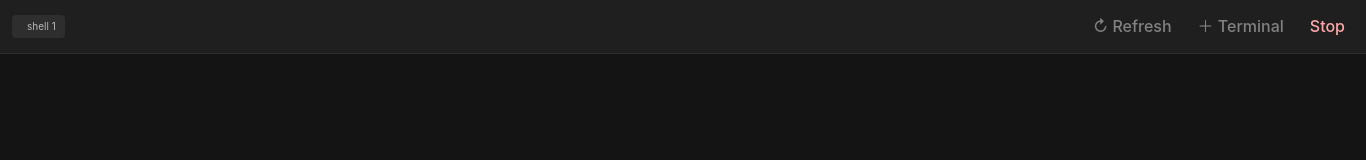
Test case: TerminalPane › does not overlap a stale terminal list with a mutation or clear its ambiguous result
expect the tab "shell 1" is shown: met, box [12, 15, 65, 38]
Click the button "↻ Refresh" at (1132, 26), box [1084, 8, 1181, 45]
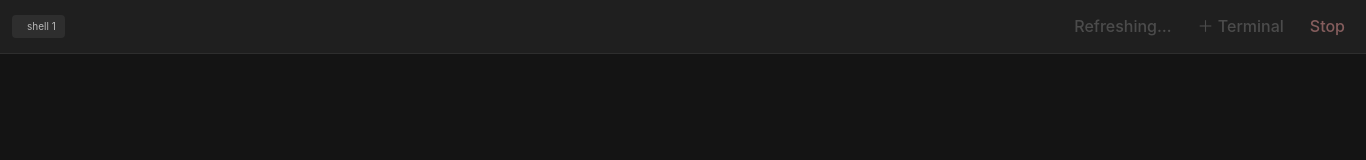
expect the button "＋ Terminal" is disabled: met
Click the button "＋ Terminal" at (1241, 26), box [1189, 8, 1293, 45]
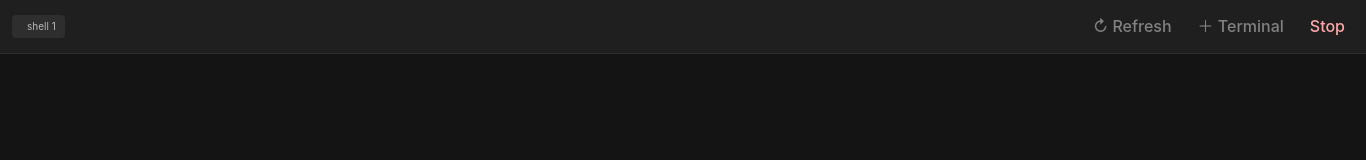
Click the button "＋ Terminal" at (1241, 26), box [1189, 8, 1293, 45]
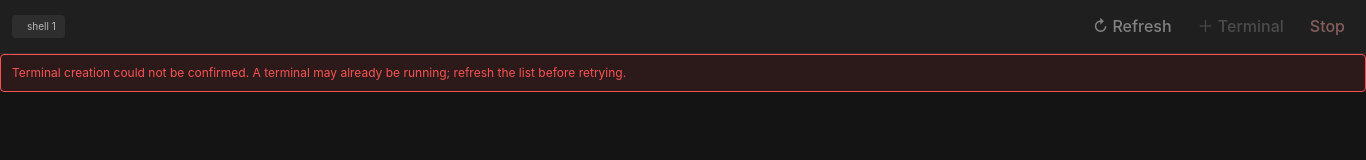
expect the message shows "Terminal creation could not be confirmed. A terminal may already be running": met, box [12, 65, 626, 80]
expect the button "＋ Terminal" is disabled: met, box [1189, 8, 1293, 45]
